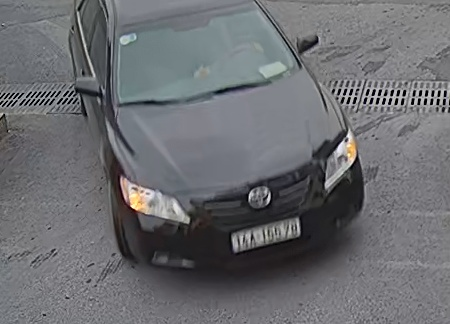vehicle plate: (224, 216, 305, 254)
